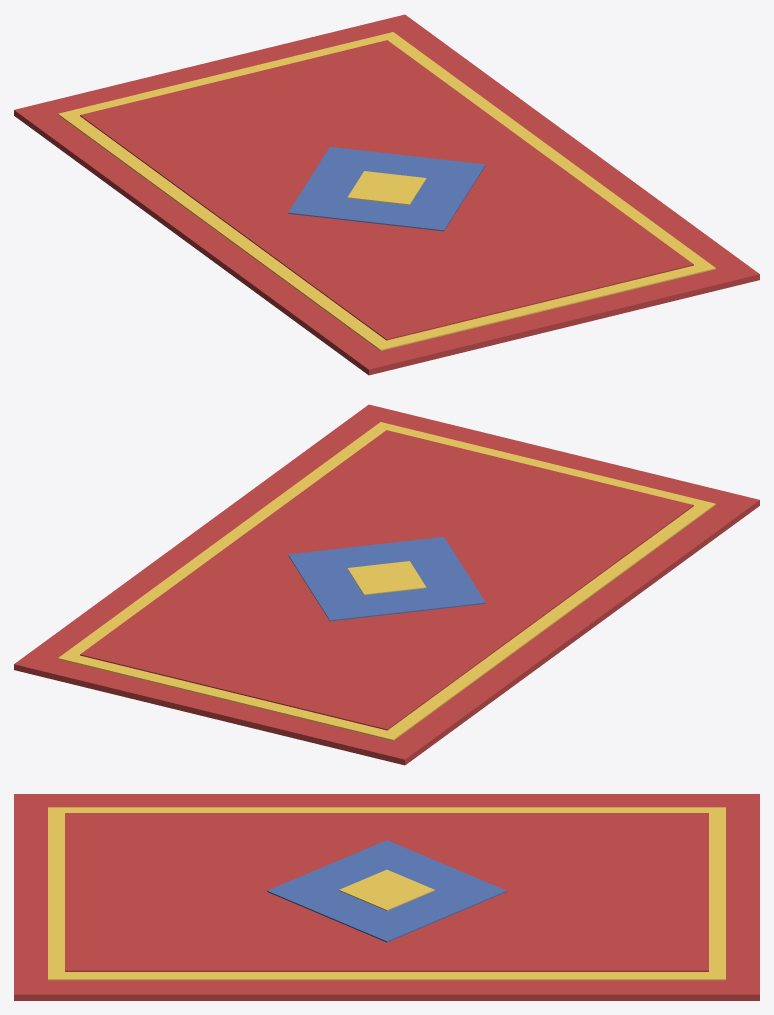
Rendered from SM_Rug.glb.
The picture shows the model from 3 angles, top to bottom: view 1: azimuth 30°, elevation 25°; view 2: azimuth 150°, elevation 25°; view 3: azimuth 270°, elevation 25°; orthographic projection. The views are drawn at different scales.
Visible parts, largest first — view 1: SM_Rug; view 2: SM_Rug; view 3: SM_Rug.
Boxes of the visible parts, bbox=[...] form: SM_Rug: bbox=[14, 14, 759, 375]; SM_Rug: bbox=[14, 404, 759, 765]; SM_Rug: bbox=[14, 794, 759, 1000].
Size of the model in its own units: 1.4 by 0.035 by 2.2.
